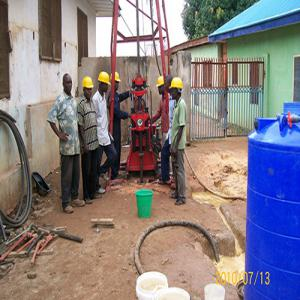none: (62, 73, 74, 96), (166, 74, 174, 93)
yellow: (171, 78, 184, 101), (83, 77, 95, 99), (99, 71, 110, 94), (111, 72, 121, 92), (157, 76, 165, 97)
